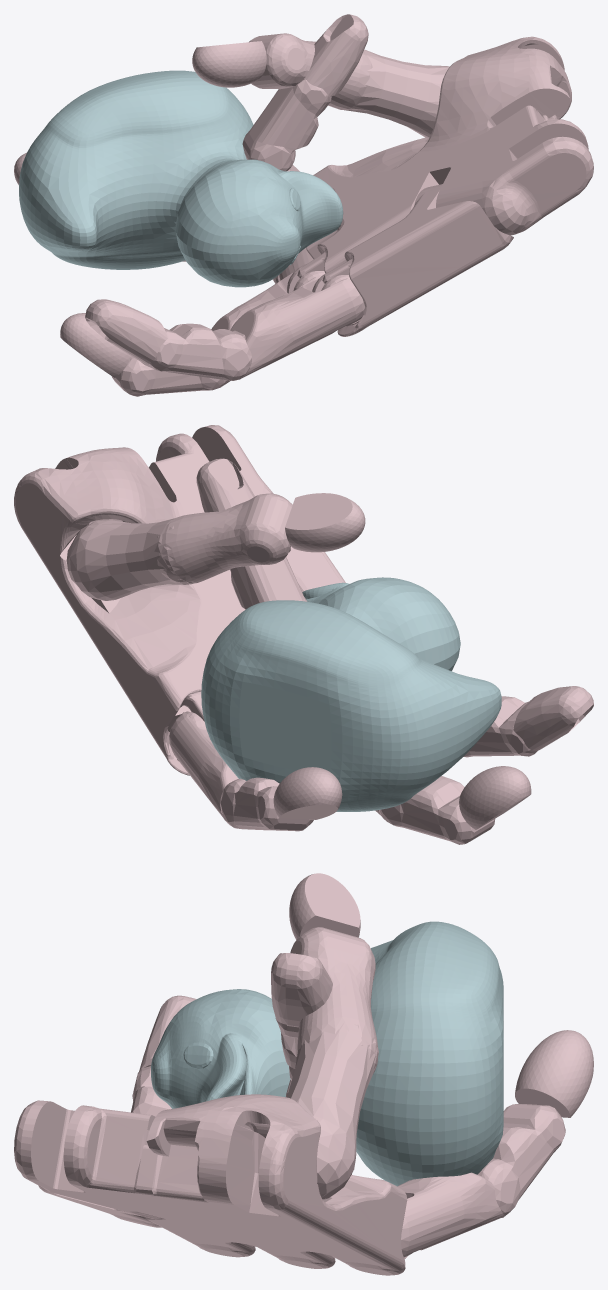
Rendered from grasp_8.glb.
The picture shows the model from 3 angles, top to bottom: view 1: azimuth 30°, elevation 25°; view 2: azimuth 150°, elevation 25°; view 3: azimuth 270°, elevation 25°; orthographic projection. The views are drawn at different scales.
Visible parts, largest first — view 1: world; view 2: world; view 3: world.
Boxes of the visible parts, <box> form: world: <box>14,14,593,396</box>; world: <box>14,425,593,844</box>; world: <box>14,873,593,1275</box>.
Size of the model in its own units: 0.1971 by 0.1167 by 0.1577.
